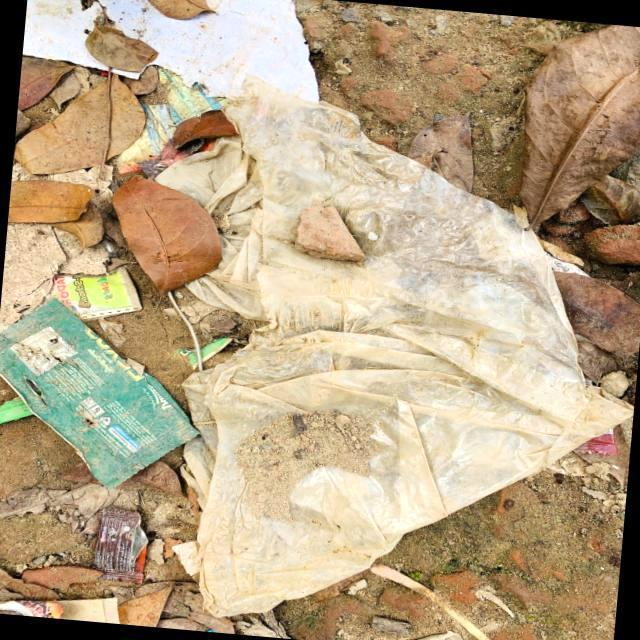polythene: (120, 67, 617, 601)
